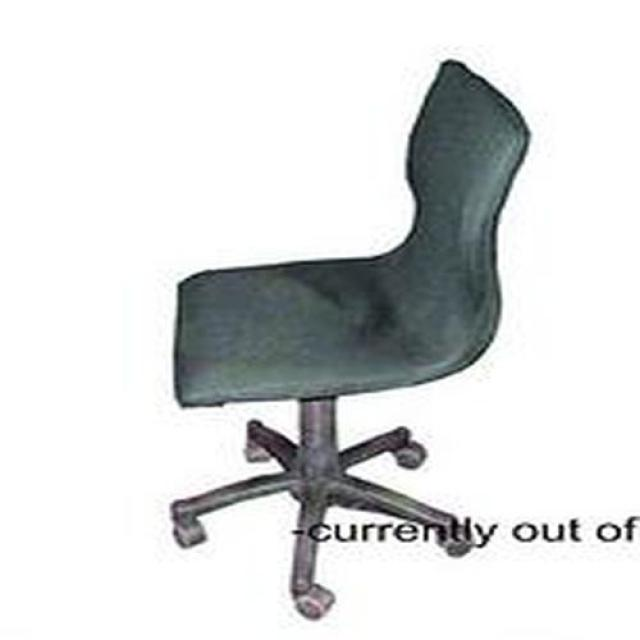swivelchair: (169, 60, 532, 625)
